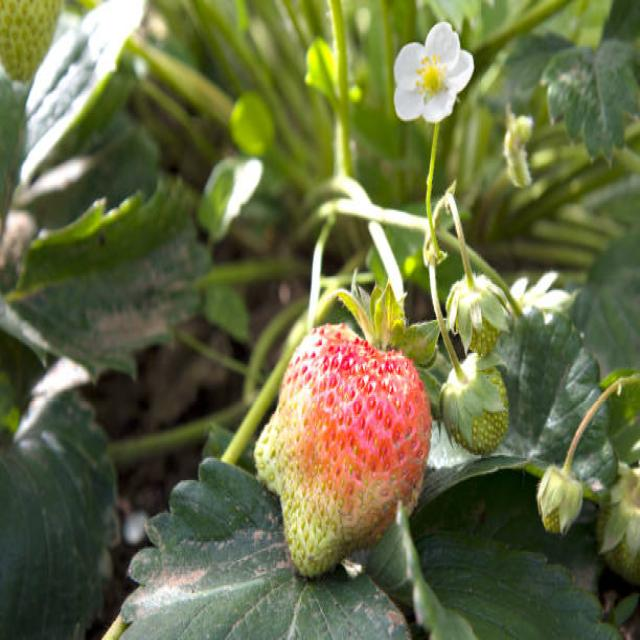Healthy Fruit: (276, 322, 431, 577)
